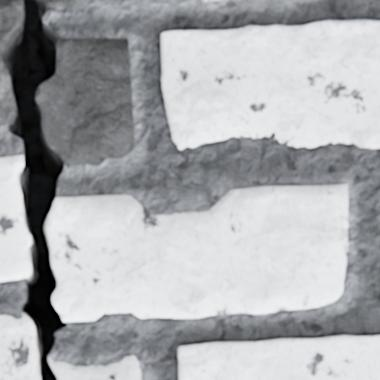brick: (160, 22, 379, 150), (177, 335, 379, 379)
broken_brick: (47, 185, 346, 321), (36, 40, 133, 166), (0, 156, 30, 281), (0, 0, 24, 126), (0, 315, 39, 379), (49, 355, 140, 379), (39, 0, 95, 12), (199, 0, 227, 3), (98, 0, 126, 1)
crack: (2, 0, 66, 379)
